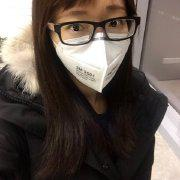OK: (57, 8, 136, 87)
